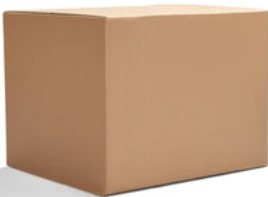stock: (4, 4, 268, 195)
